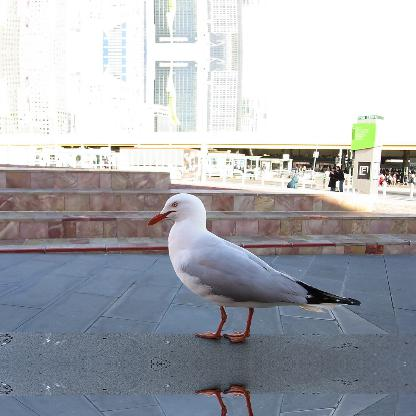Bird: (124, 201, 364, 339)
